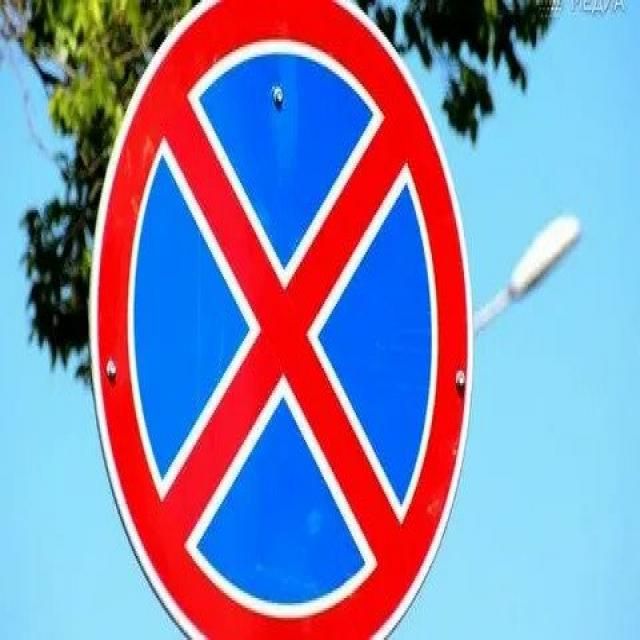no stopping: (86, 0, 477, 640)
